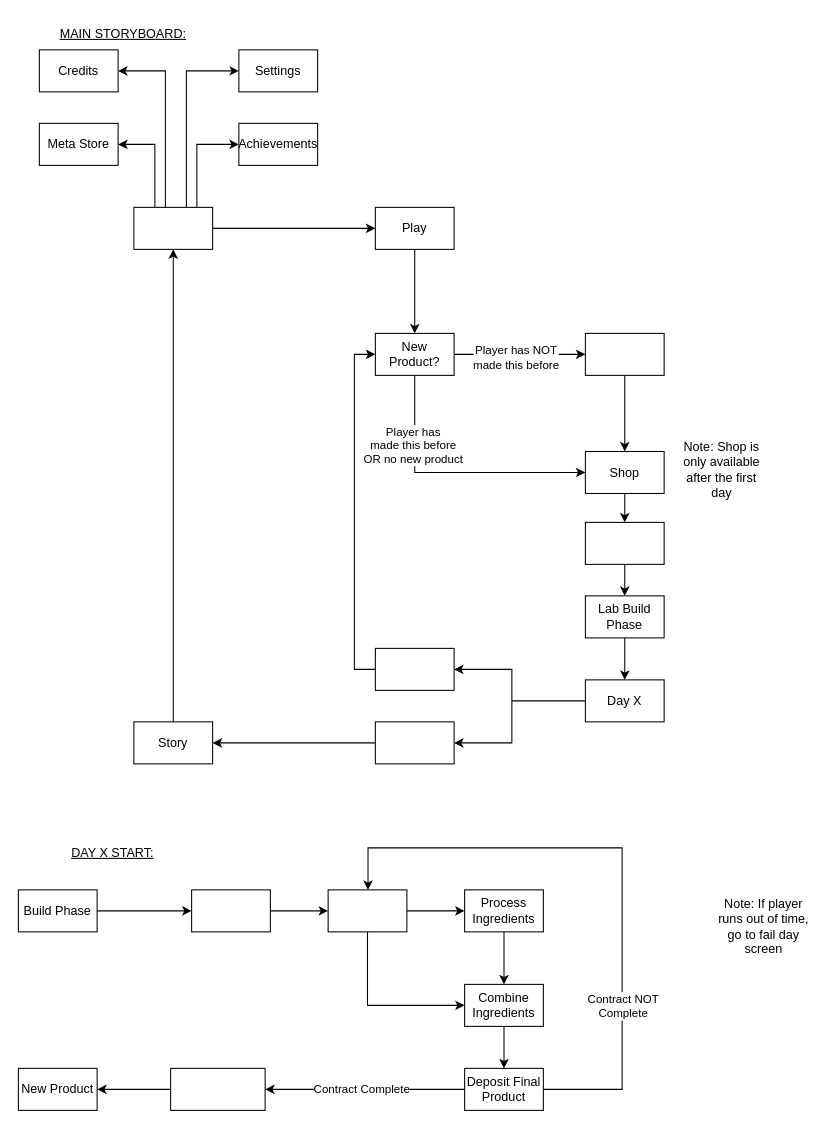
This 829x1130 diagram has some shape labels left out. Here are the shapes that lost their labels. From the top down, the centre of each, then its label:
the point at 173,227: Menu
the point at 624,353: Explanation of new product
the point at 624,542: Select Contract(s)
the point at 414,668: Pass Day Screen
the point at 414,742: Fail Day Screen
the point at 230,910: Day Start
the point at 367,910: Gather Ingredients
the point at 217,1088: Day Complete Animation / Popup
